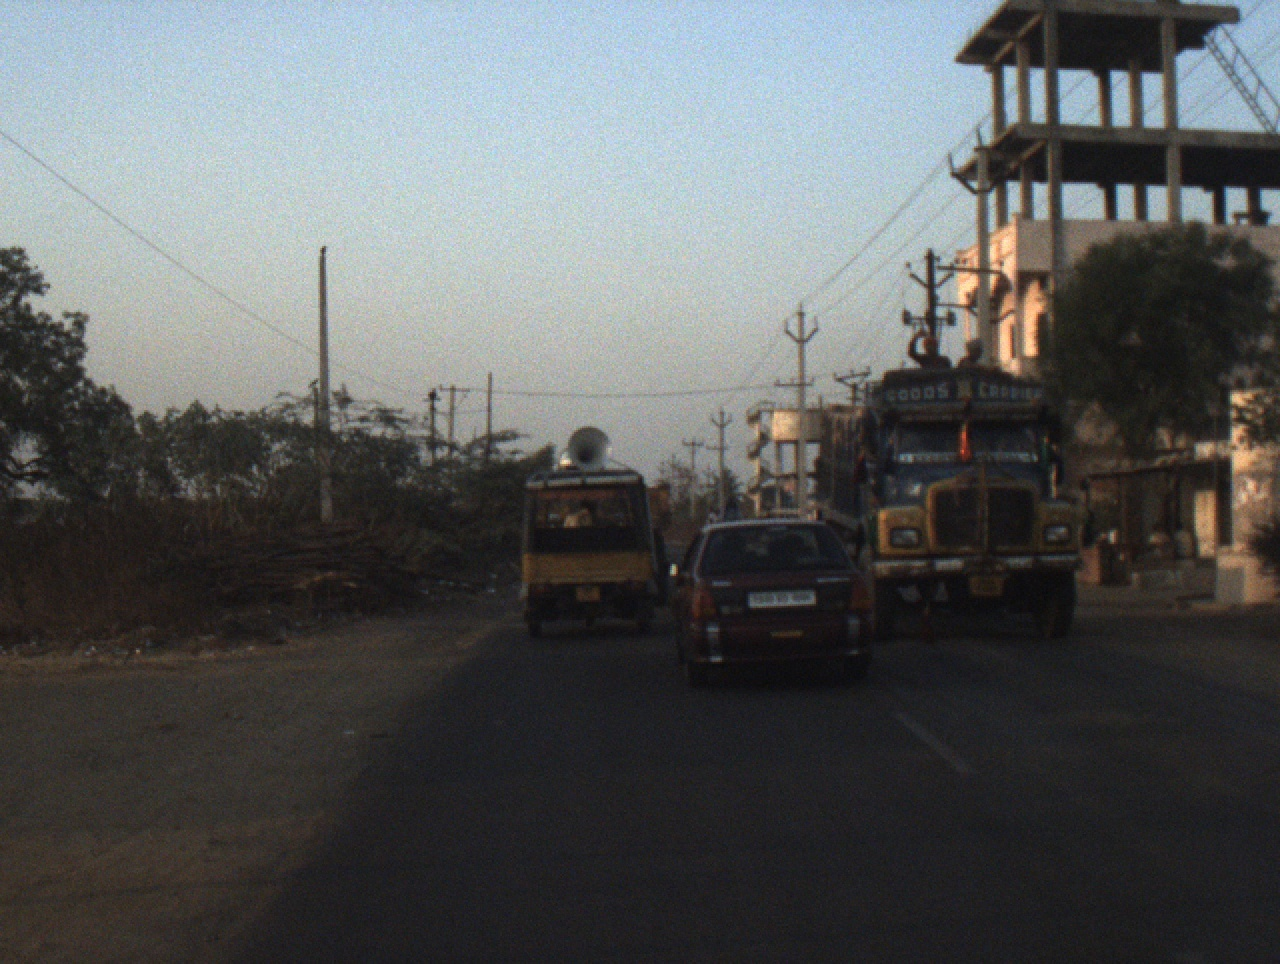autorickshaw: (515, 429, 666, 639)
car: (666, 521, 877, 695)
person: (1167, 513, 1194, 561), (1145, 522, 1175, 563), (1078, 508, 1099, 552), (1104, 522, 1124, 557)
rider: (906, 323, 946, 368), (953, 334, 990, 374), (716, 498, 743, 528)
truck: (811, 366, 1083, 643)
vehicle fallback: (645, 480, 677, 610)
